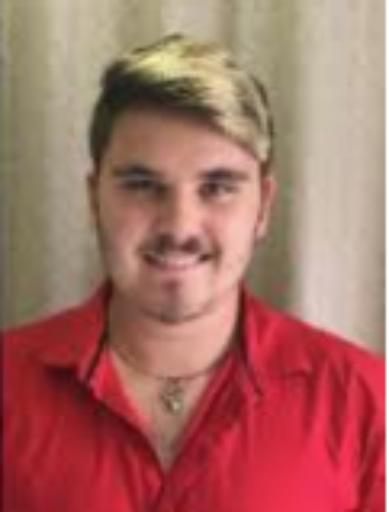left_eye: (199, 178, 245, 203)
left_lip_corner: (203, 250, 220, 272)
right_eye: (116, 173, 171, 199)
right_lip_corner: (136, 251, 159, 271)
